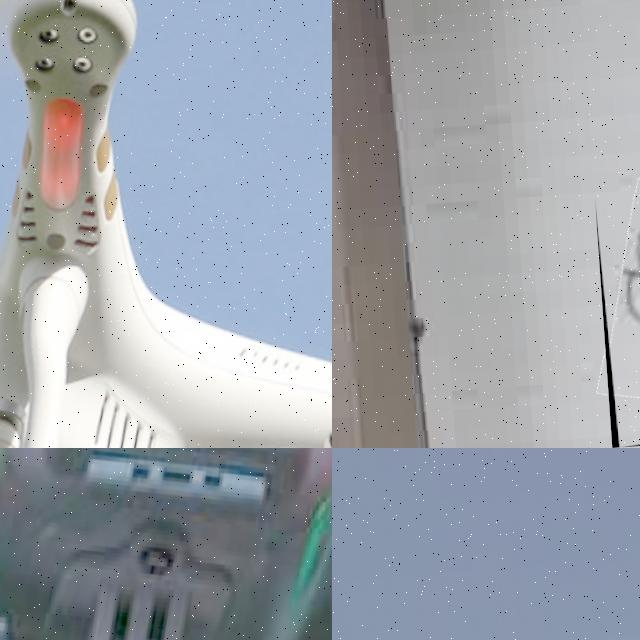drone: (0, 0, 332, 448), (0, 448, 332, 640)
